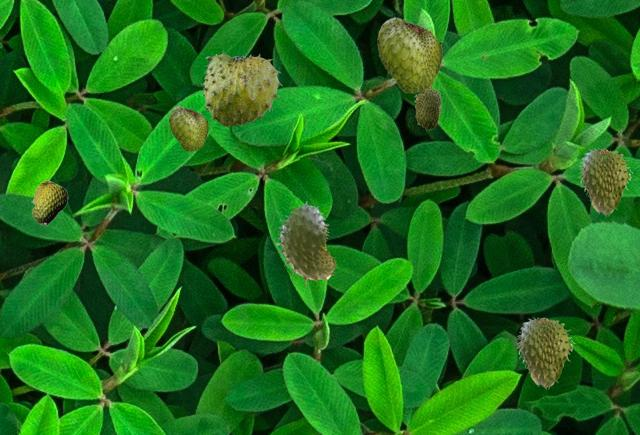guyabano: (201, 50, 281, 126), (276, 201, 336, 286), (377, 16, 441, 92), (516, 317, 574, 388), (578, 148, 632, 215), (169, 105, 207, 150), (31, 180, 67, 225), (414, 86, 441, 129)
